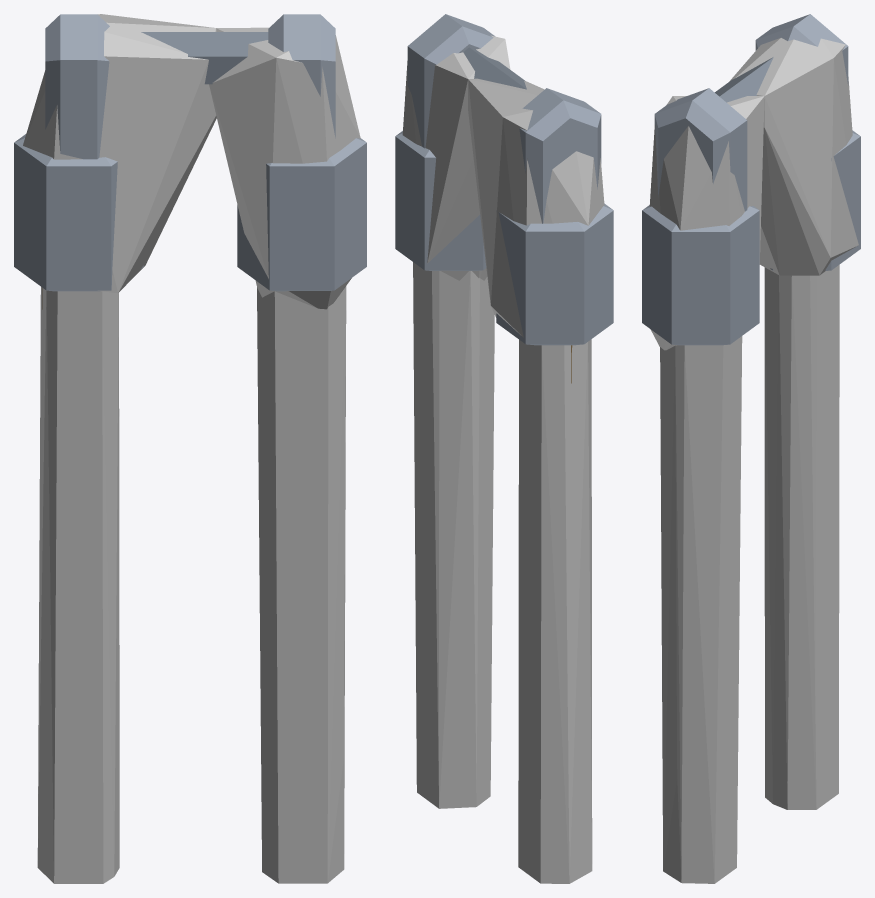
File: SM_Prop_Signal_Horn_01_Leg_01.fbx
3 views of the same model, side by side, from view 1: azimuth 30°, elevation 25°; view 2: azimuth 150°, elevation 25°; view 3: azimuth 270°, elevation 25° (orthographic). The views are drawn at different scales.
Visible parts, largest first — view 1: SM_Prop_Signal_Horn_01_Leg_01_ConvexHulls, SM_Prop_Signal_Horn_01_Leg_01; view 2: SM_Prop_Signal_Horn_01_Leg_01_ConvexHulls, SM_Prop_Signal_Horn_01_Leg_01; view 3: SM_Prop_Signal_Horn_01_Leg_01_ConvexHulls, SM_Prop_Signal_Horn_01_Leg_01.
Part boxes in pixels (x1,y1,x2,y2): SM_Prop_Signal_Horn_01_Leg_01_ConvexHulls: [23, 14, 360, 883]; SM_Prop_Signal_Horn_01_Leg_01: [14, 14, 366, 309]; SM_Prop_Signal_Horn_01_Leg_01_ConvexHulls: [402, 35, 604, 883]; SM_Prop_Signal_Horn_01_Leg_01: [395, 14, 613, 383]; SM_Prop_Signal_Horn_01_Leg_01_ConvexHulls: [649, 38, 858, 883]; SM_Prop_Signal_Horn_01_Leg_01: [642, 14, 860, 345].
Bounding box in the file's own units: 21.6 × 17.06 × 66.74.
Materials: 2 (1 with a texture image).
